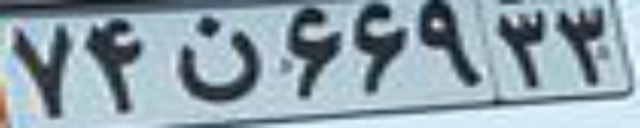3: (555, 5, 615, 89), (496, 7, 546, 87)
4: (80, 20, 146, 111)
6: (350, 2, 410, 95), (284, 8, 344, 100)
7: (8, 21, 73, 119)
9: (418, 1, 482, 88)
non: (173, 14, 266, 104)
